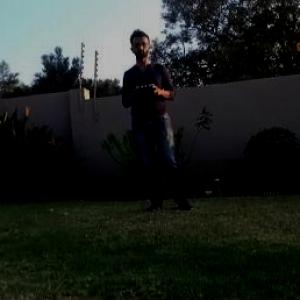follow: (120, 23, 199, 215)
